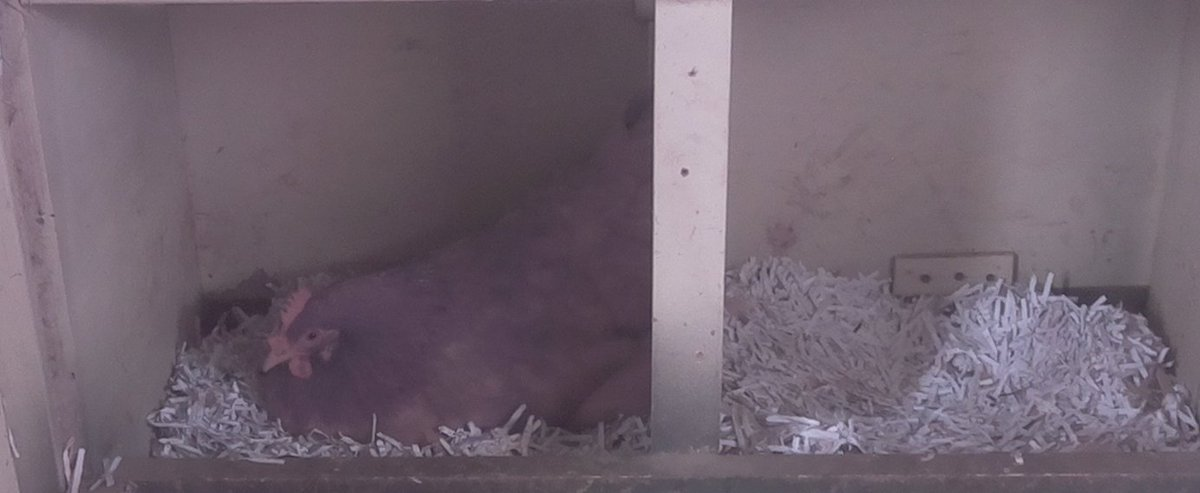hen: (249, 114, 647, 448)
